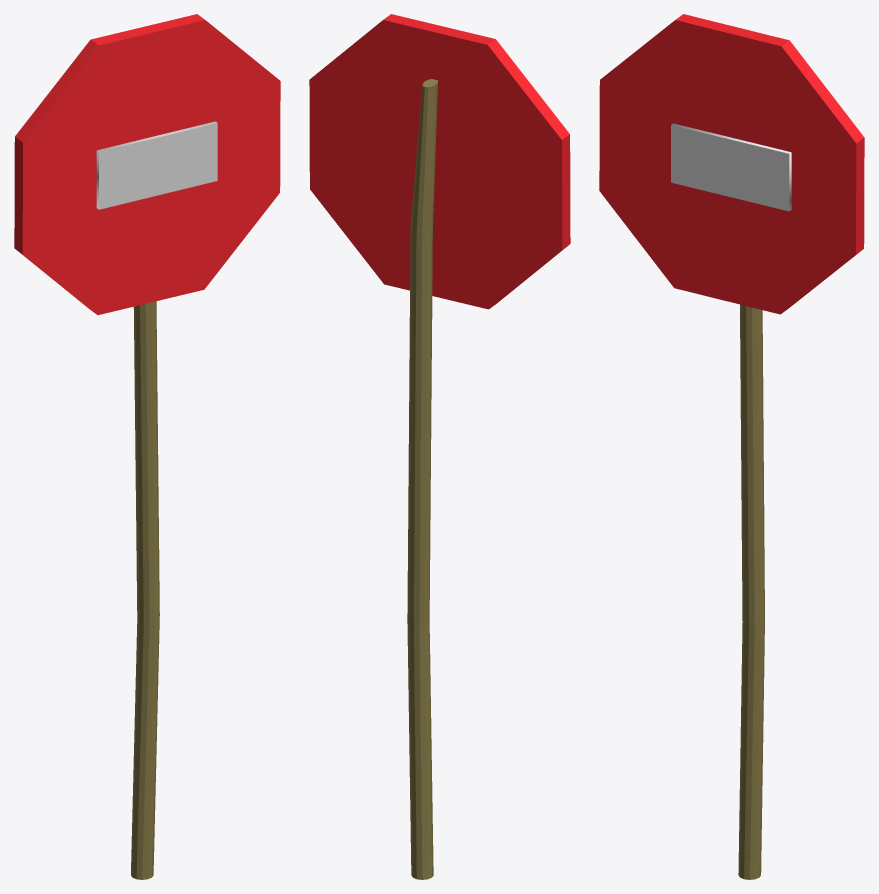
File: signboard05.fbx
3 renders of one model, left to right at view 1: azimuth 30°, elevation 25°; view 2: azimuth 150°, elevation 25°; view 3: azimuth 330°, elevation 25°, orthographic.
Parts seen in each view (by area): view 1: Circle.009; view 2: Circle.009; view 3: Circle.009.
Part boxes in pixels (x1=…): Circle.009: x1=14, y1=14, x2=280, y2=879; Circle.009: x1=309, y1=14, x2=570, y2=879; Circle.009: x1=599, y1=14, x2=864, y2=879.
Bounding box in the file's own units: 0.4625 × 1.47 × 0.0733.
